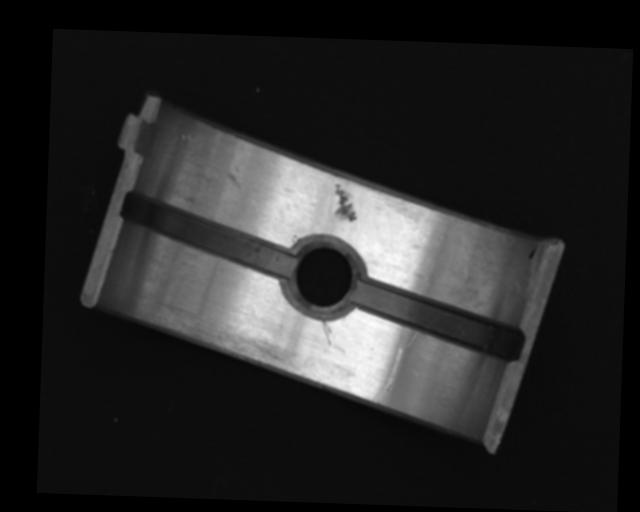blot: (527, 244, 538, 260)
bruise: (332, 182, 358, 223), (226, 165, 242, 188), (177, 132, 191, 142)
gap: (117, 192, 296, 282), (351, 276, 525, 361)
hole: (284, 237, 364, 318)
nick: (372, 345, 404, 404), (321, 320, 332, 346)
scratch: (131, 296, 300, 387)
